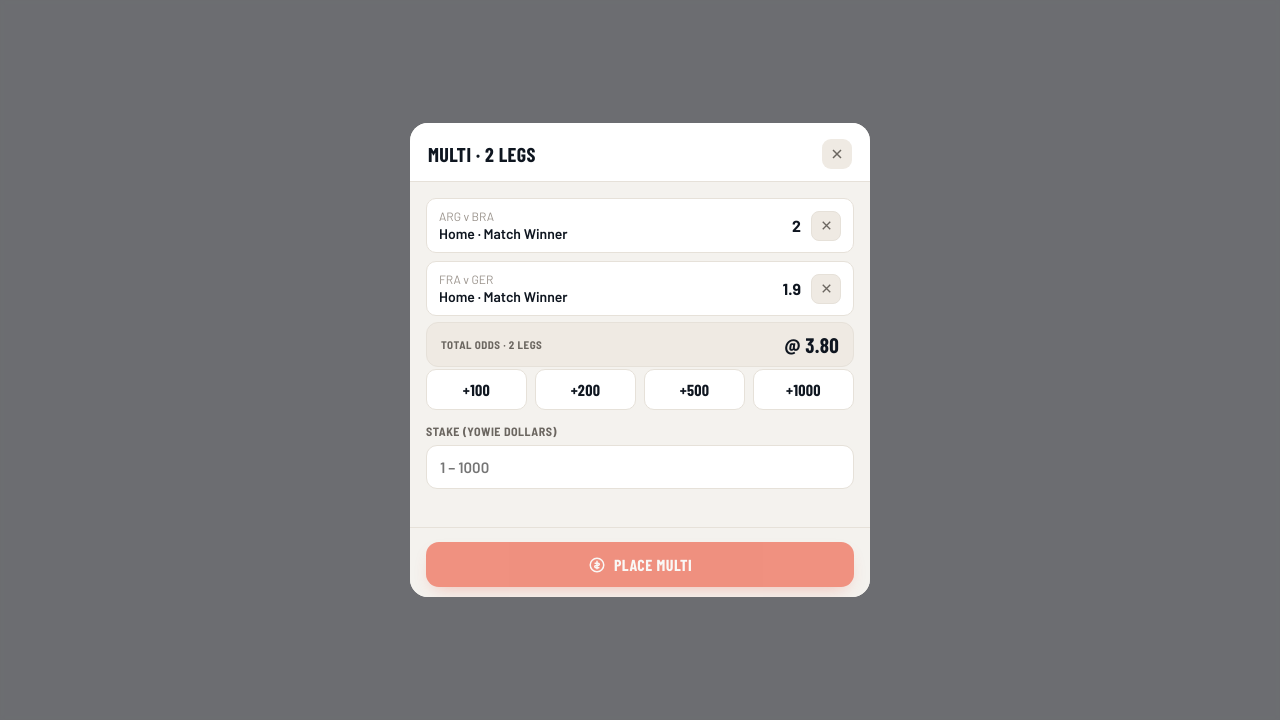
Test: removing a leg from the sheet drops it
Click the button named "remove" in the row of "ARG v BRA".
click(826, 226)  # box left=811, top=210, right=841, bottom=240
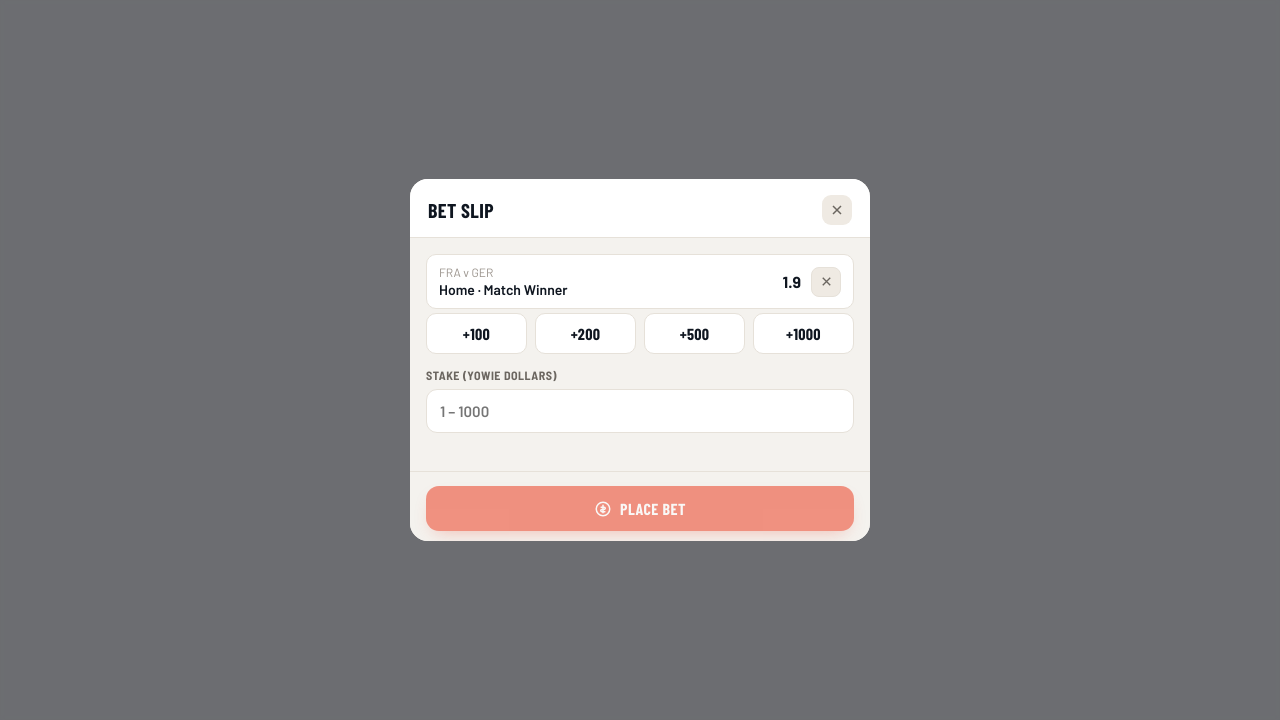
Expected: the number of buttons named "remove" is 1, left=811, top=266, right=841, bottom=296
